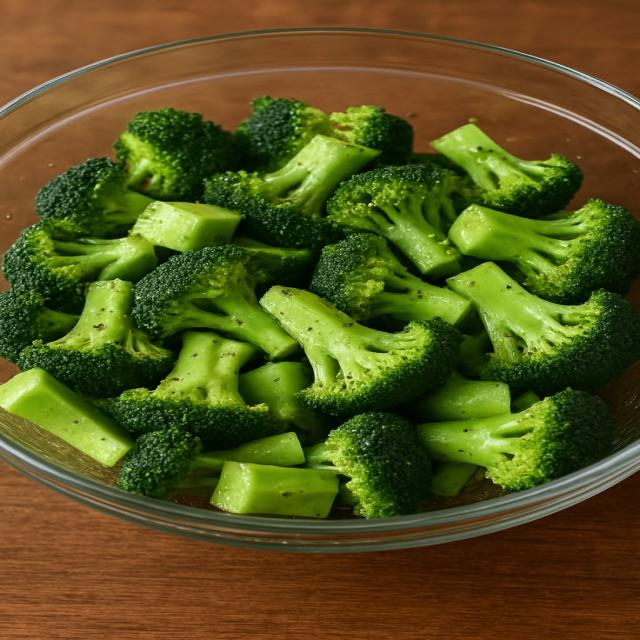broccoli: (260, 286, 459, 415), (447, 263, 639, 395), (106, 331, 286, 448), (202, 134, 379, 249), (417, 389, 613, 491), (449, 199, 639, 303), (134, 245, 297, 359), (17, 280, 174, 397), (327, 165, 459, 278), (309, 233, 470, 324), (431, 123, 582, 217), (2, 222, 158, 310), (235, 96, 413, 171), (305, 412, 430, 518), (118, 427, 304, 498), (0, 368, 133, 466), (114, 108, 242, 201), (35, 158, 153, 237), (240, 361, 334, 444), (235, 96, 333, 171), (210, 461, 339, 517), (0, 288, 78, 363), (129, 201, 241, 252), (402, 372, 512, 422), (329, 105, 413, 165), (231, 236, 317, 290)
